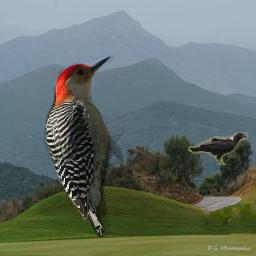Crow: (188, 132, 248, 165)
Woodpecker: (43, 55, 124, 237)
